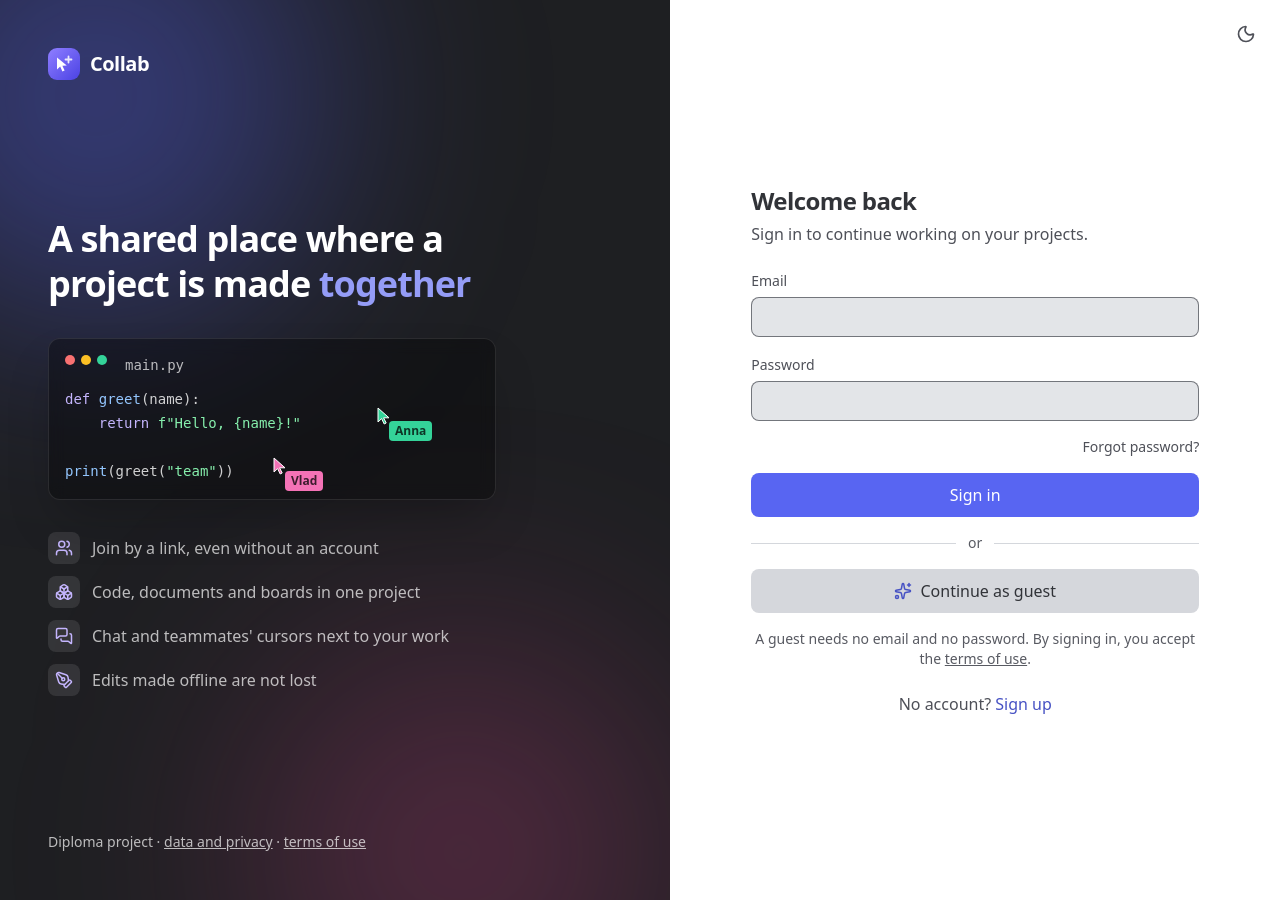
Test case: LoginPage › shows the server's message when the sign-in is refused
The width and height of the screenshot is (1280, 900).
In the field labelled "Email": (975, 317) x1=751 y1=297 x2=1199 y2=337, type "anna@example.com"
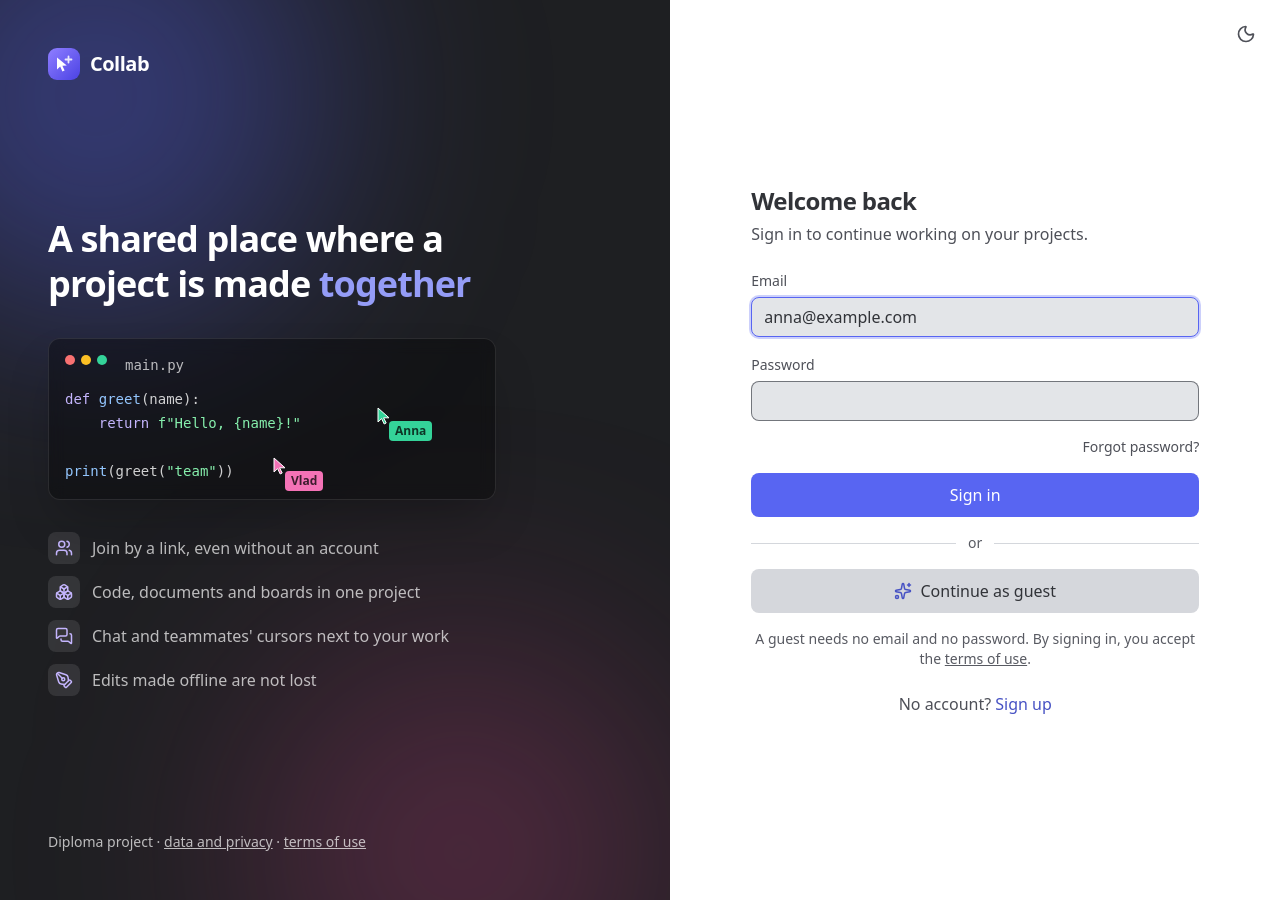
In the password field labelled "Password": (975, 401) x1=751 y1=381 x2=1199 y2=421, type "wrong-password"
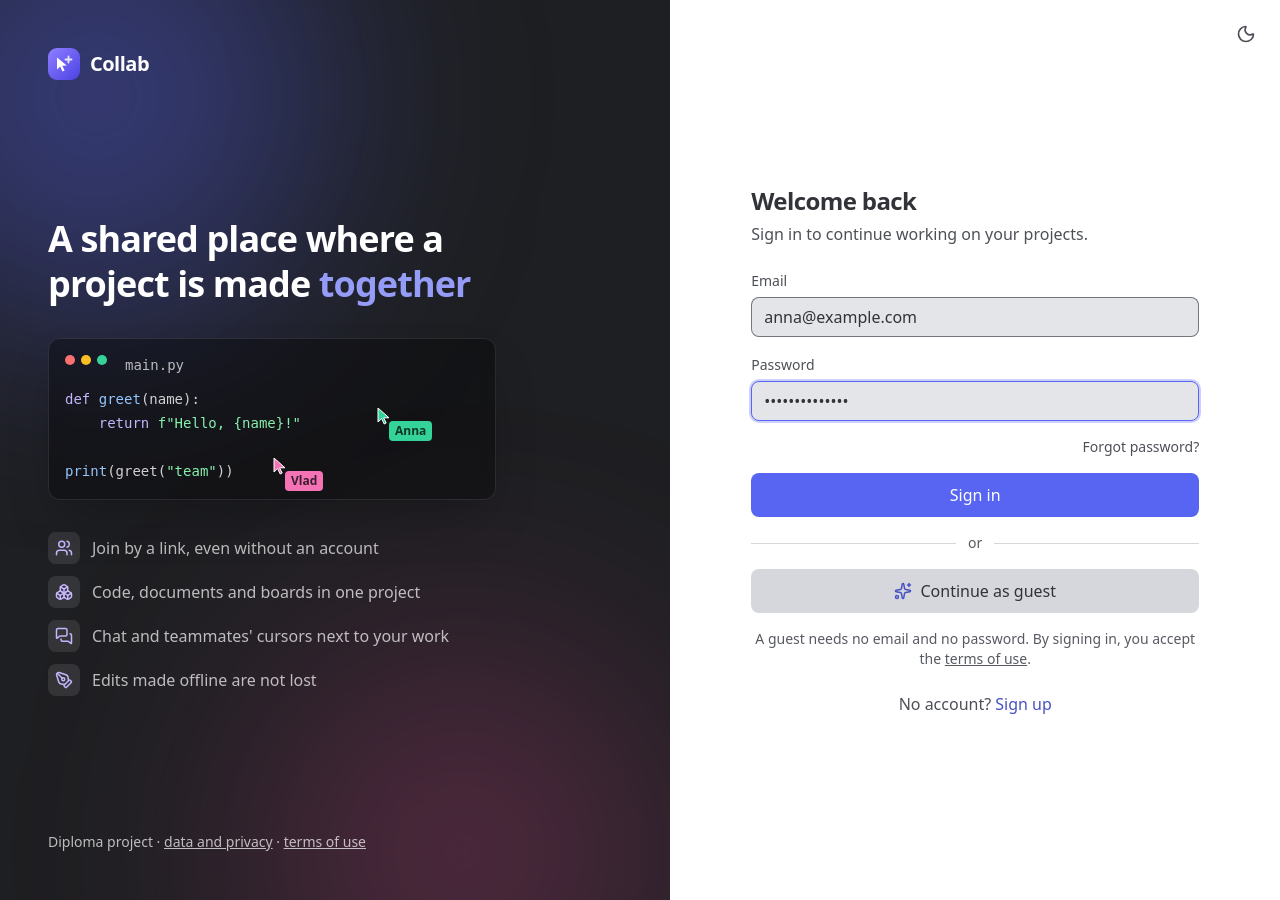
Click the button "Sign in": (975, 495) x1=751 y1=473 x2=1199 y2=517
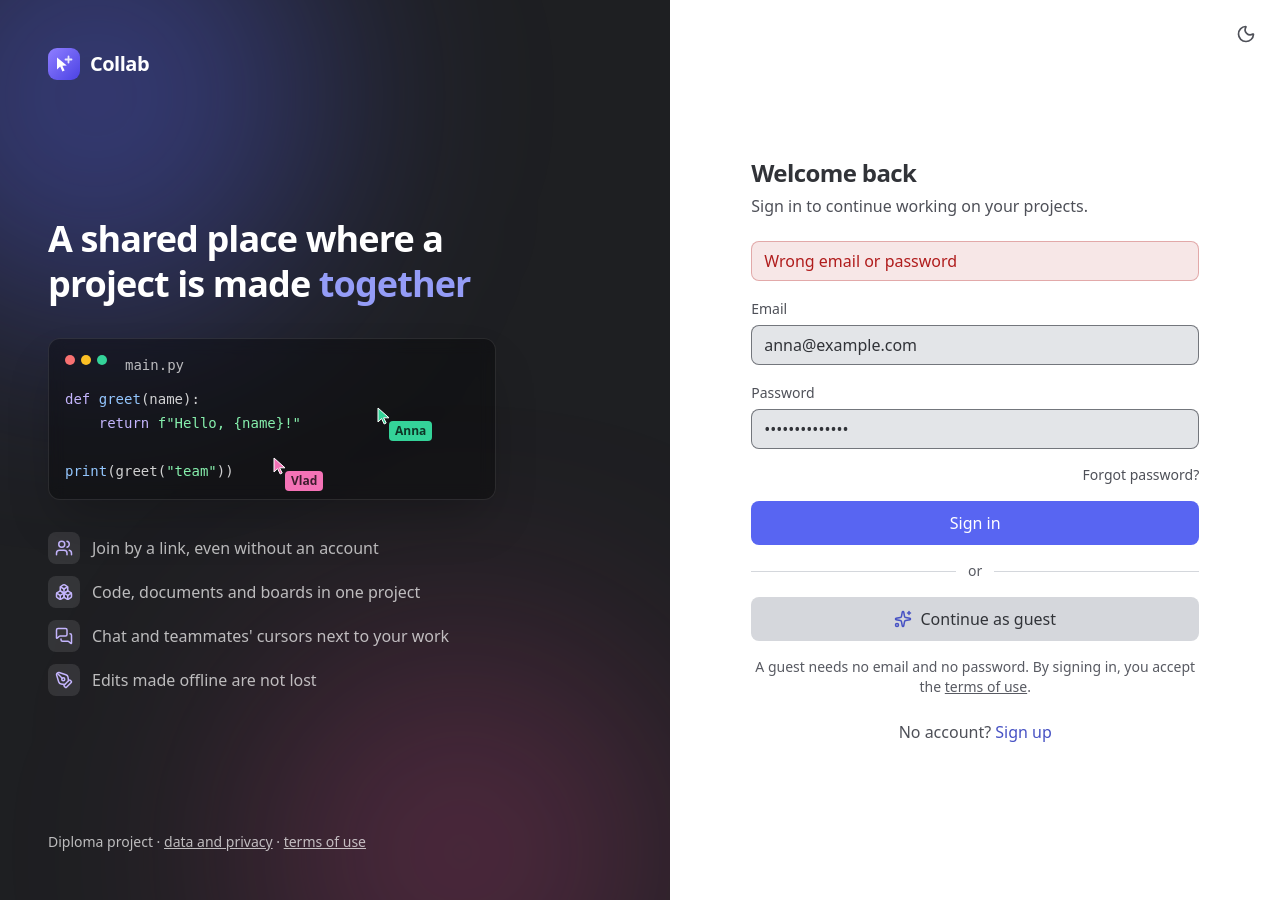
Expected: the message reads "Wrong email or password", x1=764 y1=250 x2=957 y2=272
